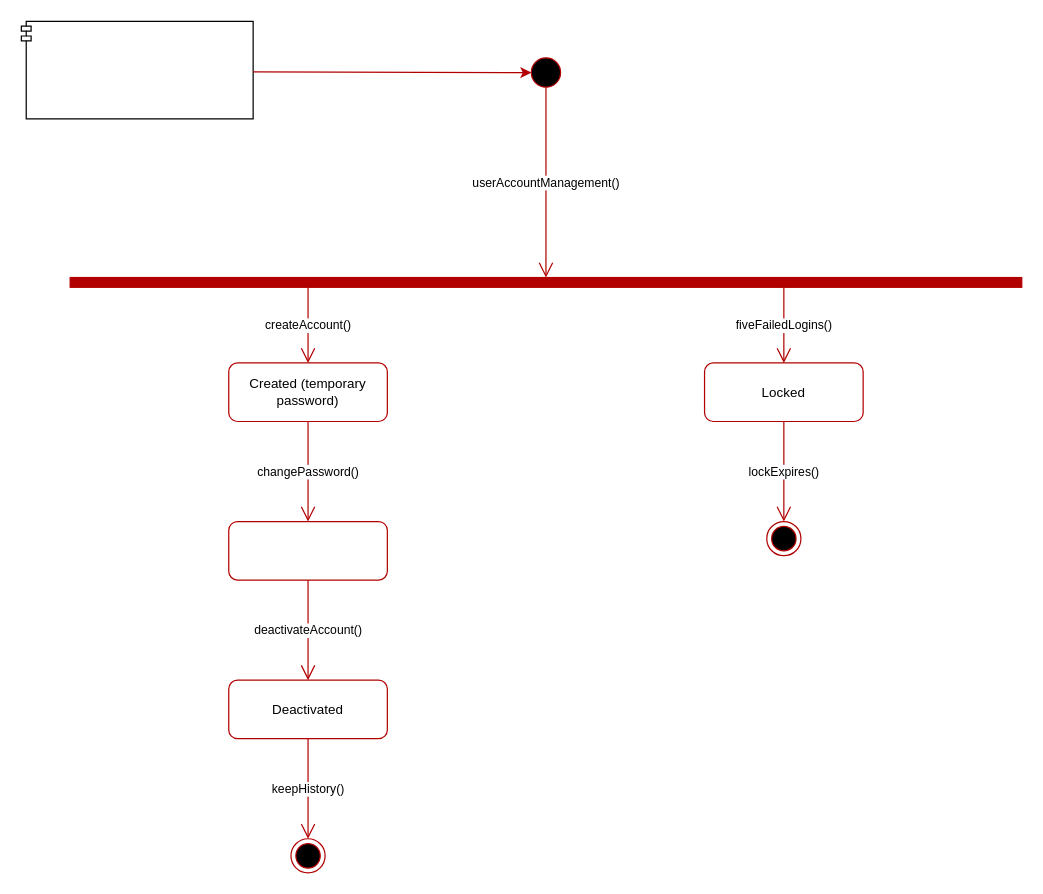
This 1043x894 diagram has some shape labels left out. Here are the shapes that lost their labels. From the top down, the centre of each, then its label:
At pixel 136 69: "Administrator user management".
At pixel 307 550: "Active".
